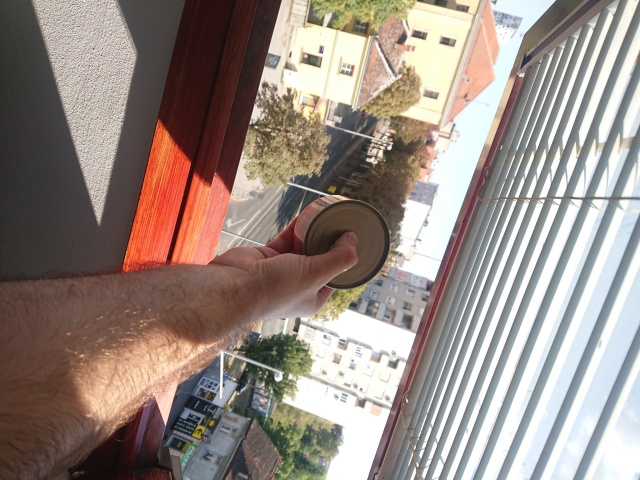Giana Tuna Salad Mexico 185g: (291, 193, 392, 293)
